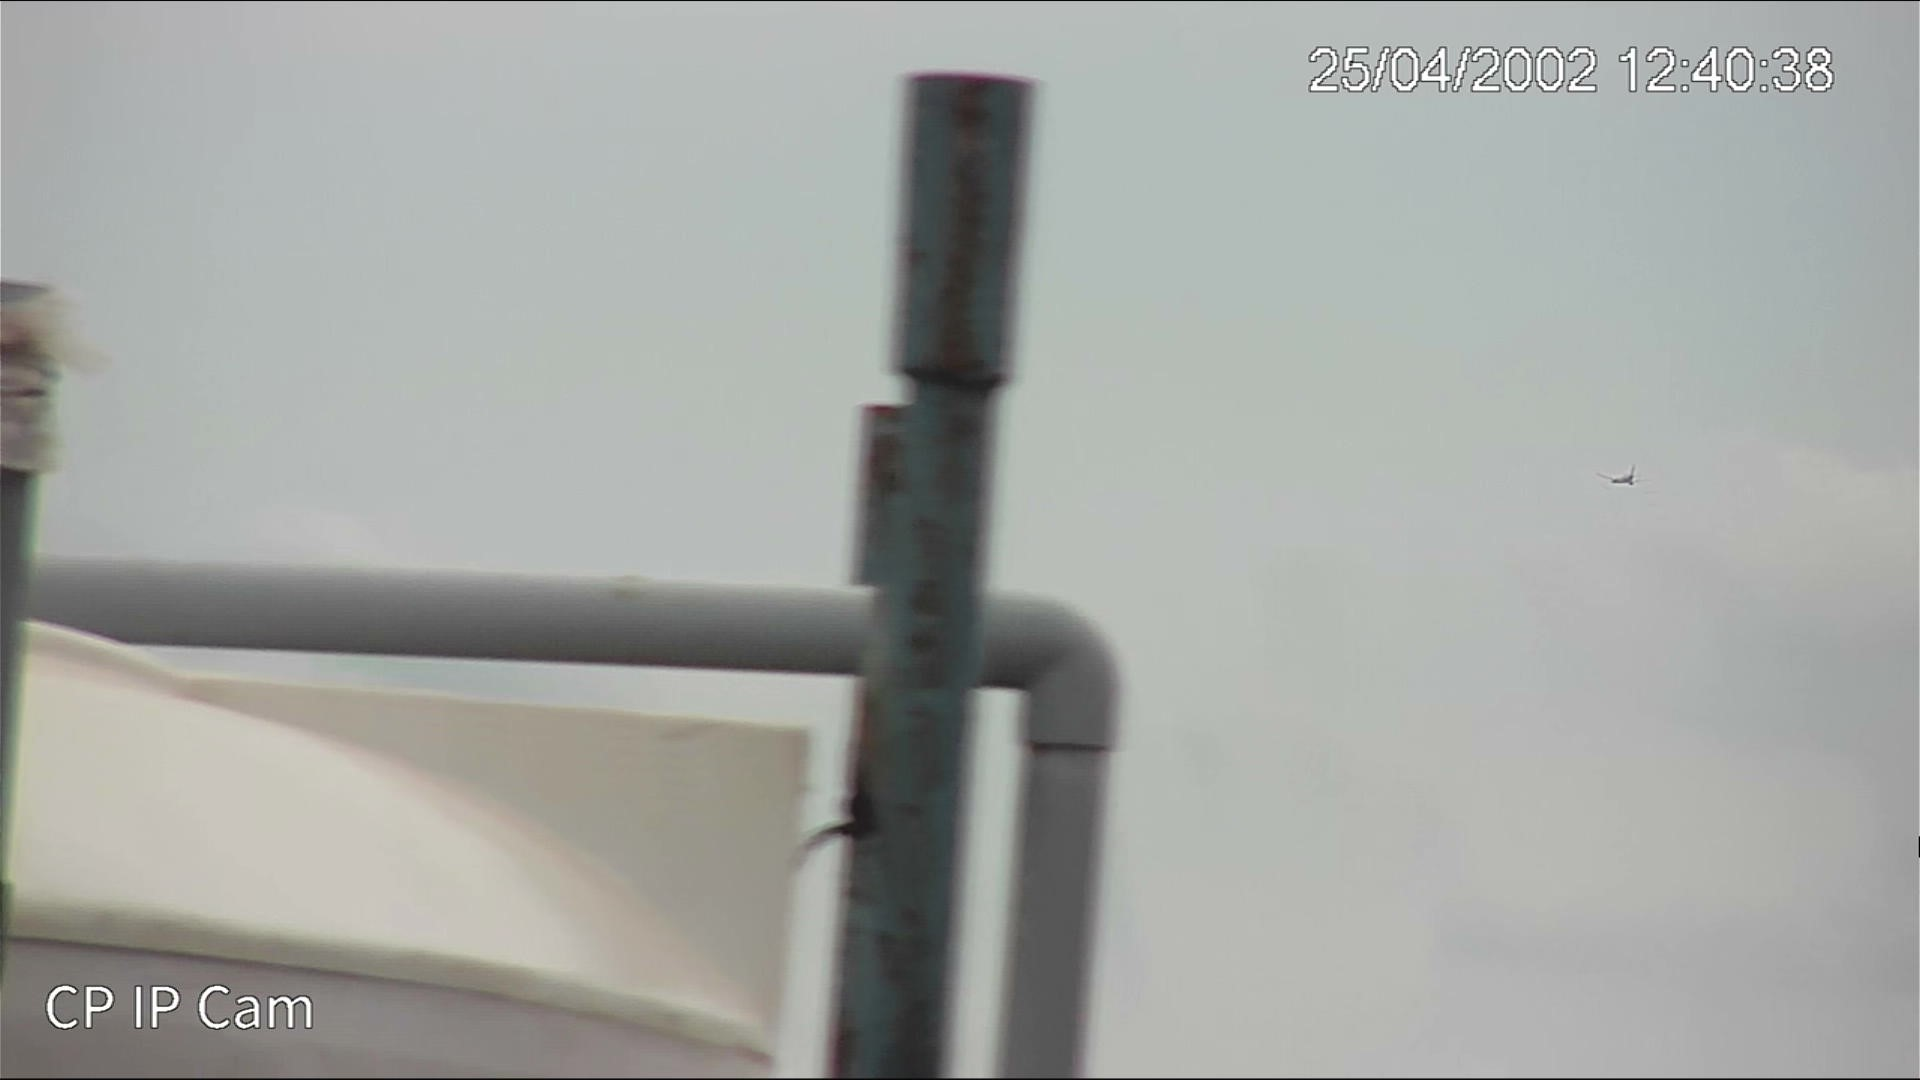SU_30: (1606, 469, 1636, 485)
